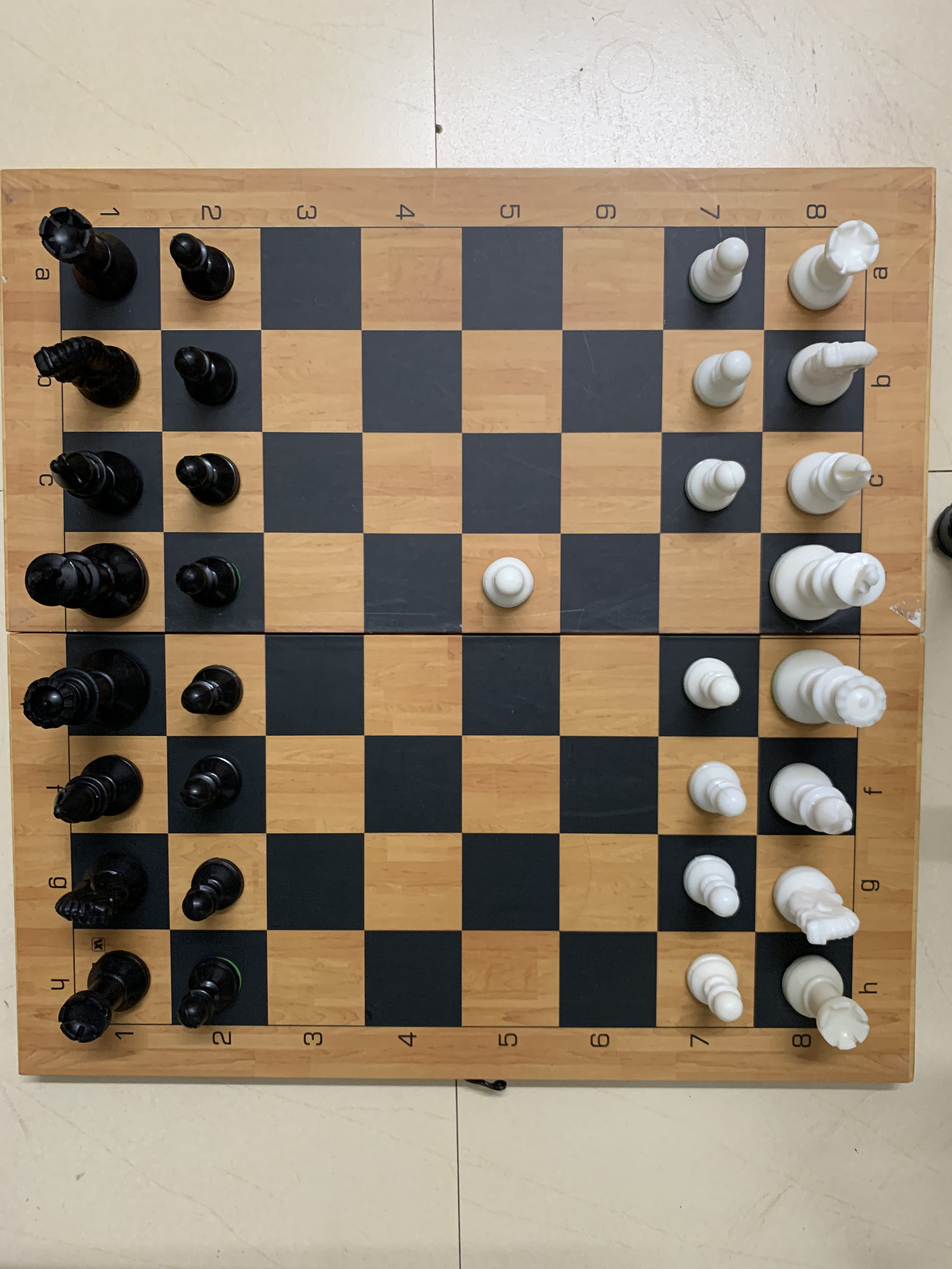black_bishop: (35, 439, 150, 530), (47, 751, 150, 830)
black_knight: (31, 329, 148, 435), (49, 845, 159, 941)
black_pawn: (167, 938, 264, 1042), (162, 222, 251, 324), (165, 543, 260, 628), (161, 336, 251, 419), (170, 647, 254, 732), (164, 438, 252, 518), (173, 842, 255, 926), (161, 751, 254, 825)
black_rook: (33, 194, 145, 312), (57, 941, 159, 1053)
white_bishop: (767, 751, 877, 846), (778, 436, 886, 521)
white_king: (767, 537, 900, 634)
white_knight: (767, 855, 878, 951), (778, 329, 885, 420)
white_pawn: (466, 531, 556, 623), (671, 342, 766, 428), (666, 836, 749, 934), (671, 941, 756, 1034), (677, 224, 761, 317), (667, 639, 751, 731), (669, 748, 754, 833), (675, 443, 754, 522)
white_queen: (770, 638, 897, 739)
white_rook: (778, 943, 887, 1057), (789, 216, 888, 324)
